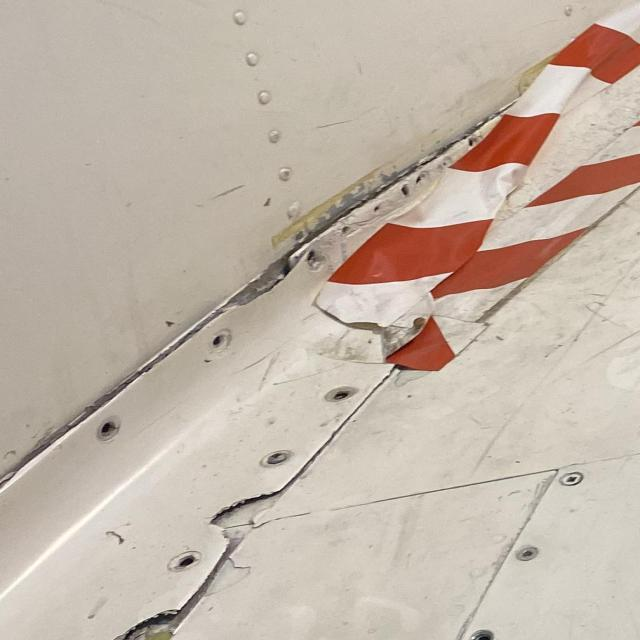Crack: (206, 195, 364, 313), (208, 491, 274, 540), (113, 613, 177, 640)
Missing-head: (163, 551, 197, 573), (203, 329, 229, 357), (320, 387, 356, 405), (91, 417, 117, 441), (466, 630, 492, 640)
Paint-off: (197, 556, 247, 599), (384, 367, 433, 390)
